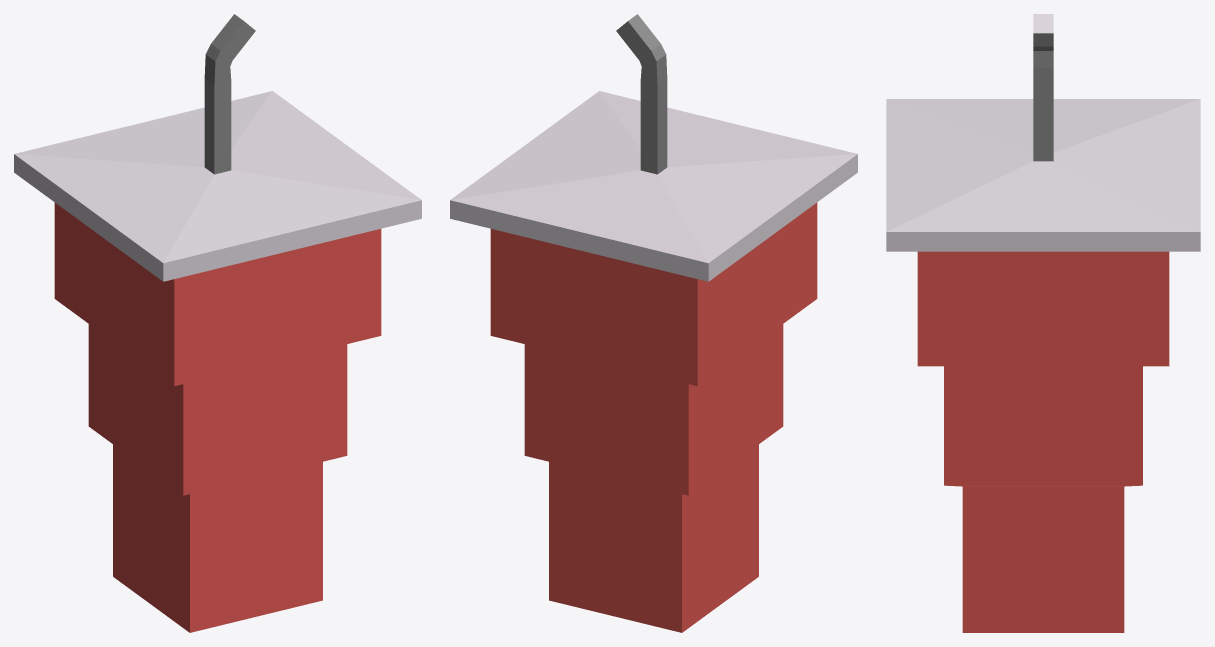
File: Cup.fbx
3 views of the same model, side by side, from view 1: azimuth 30°, elevation 25°; view 2: azimuth 150°, elevation 25°; view 3: azimuth 270°, elevation 25° (orthographic). The views are drawn at different scales.
Visible parts, largest first — view 1: Cube; view 2: Cube; view 3: Cube.
Part boxes in pixels (box(x1,y1,x2,y2)): Cube: box(14, 14, 421, 632); Cube: box(450, 14, 857, 632); Cube: box(886, 14, 1200, 632).
Bounding box in the file's own units: 115 × 240 × 115.
